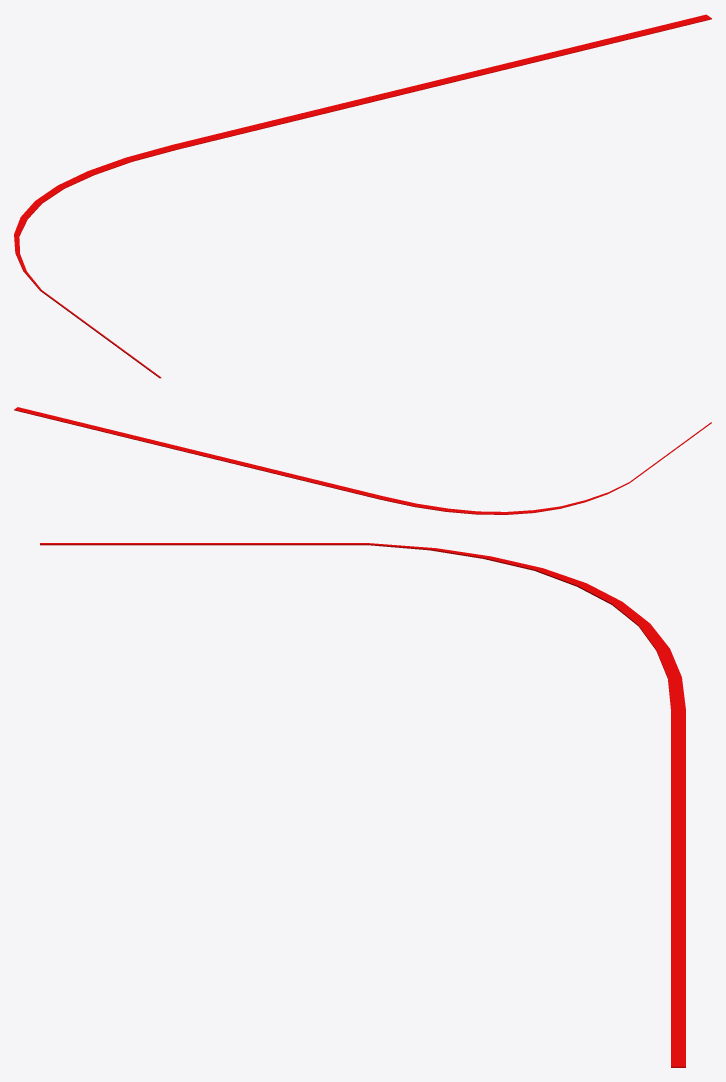
File: SciFi_CR_Floor_Door_Line.FBX
The picture shows the model from 3 angles, top to bottom: view 1: azimuth 30°, elevation 25°; view 2: azimuth 150°, elevation 25°; view 3: azimuth 270°, elevation 25°; orthographic projection. The views are drawn at different scales.
Parts seen in each view (by area): view 1: SciFi_CR_Floor_Door_Line; view 2: SciFi_CR_Floor_Door_Line; view 3: SciFi_CR_Floor_Door_Line.
Part boxes in pixels (x1=…): SciFi_CR_Floor_Door_Line: x1=14, y1=14, x2=711, y2=378; SciFi_CR_Floor_Door_Line: x1=14, y1=407, x2=711, y2=514; SciFi_CR_Floor_Door_Line: x1=40, y1=543, x2=685, y2=1067.
Bounding box in the file's own units: 5710 × 6.17 × 2976.
